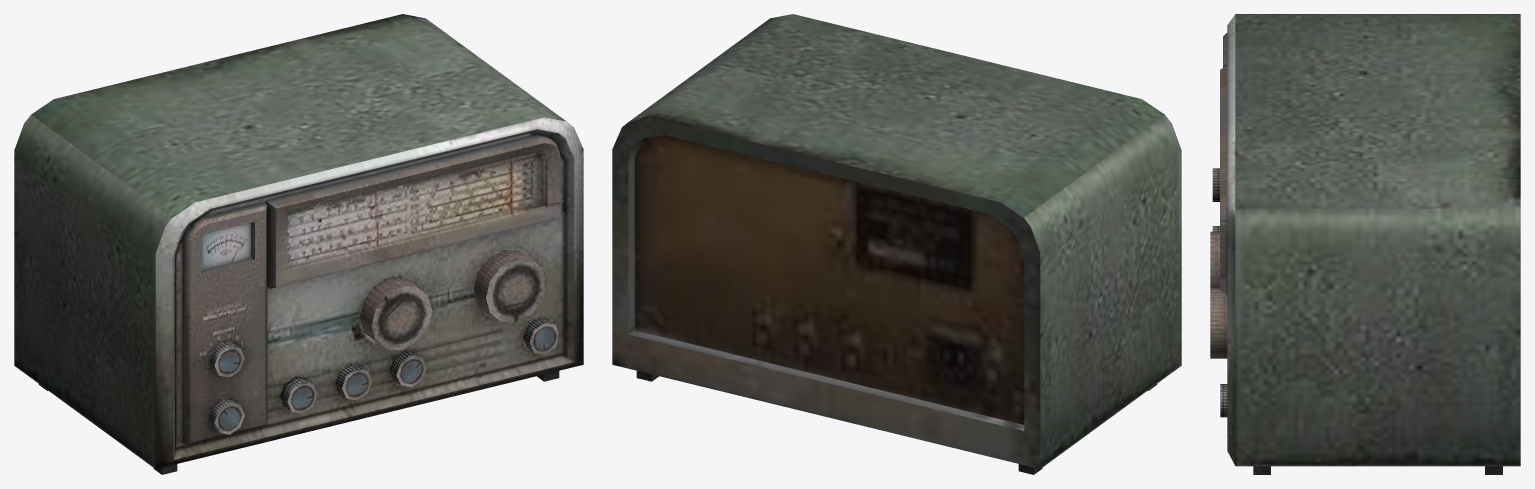
Rendered from citizenradio.glb.
3 renders of one model, left to right at view 1: azimuth 30°, elevation 25°; view 2: azimuth 150°, elevation 25°; view 3: azimuth 270°, elevation 25°, orthographic.
Visible parts, largest first — view 1: 0_radio_sheet; view 2: 0_radio_sheet; view 3: 0_radio_sheet.
Part boxes in pixels (x1,y1,x2,y2): 0_radio_sheet: (14, 14, 583, 474); 0_radio_sheet: (612, 14, 1181, 474); 0_radio_sheet: (1210, 14, 1520, 474).
Bounding box in the file's own units: 0.7112 × 0.4337 × 0.4422.
Materials: 1 (1 with a texture image).
